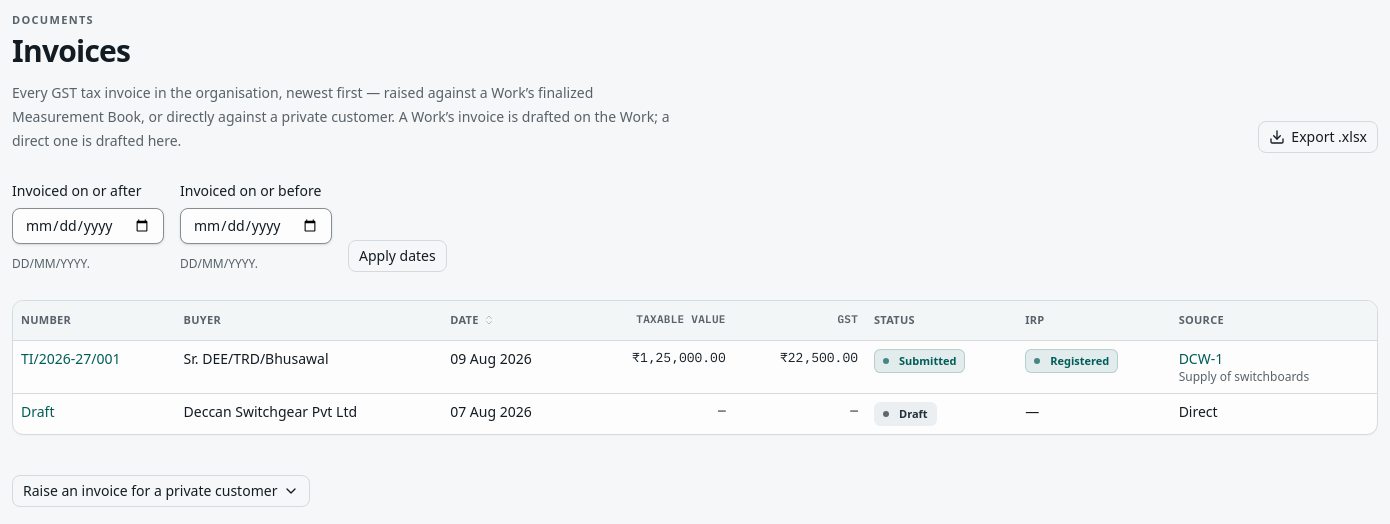
Test: the tax-invoice register › narrows to a date window, and says so when the window is empty
Expected: the link "TI/2026-27/001" is shown, x1=21 y1=349 x2=120 y2=368
Type "2026-08-01" into the date field labelled "Invoiced on or after" at (88, 226), box x1=12 y1=208 x2=164 y2=244
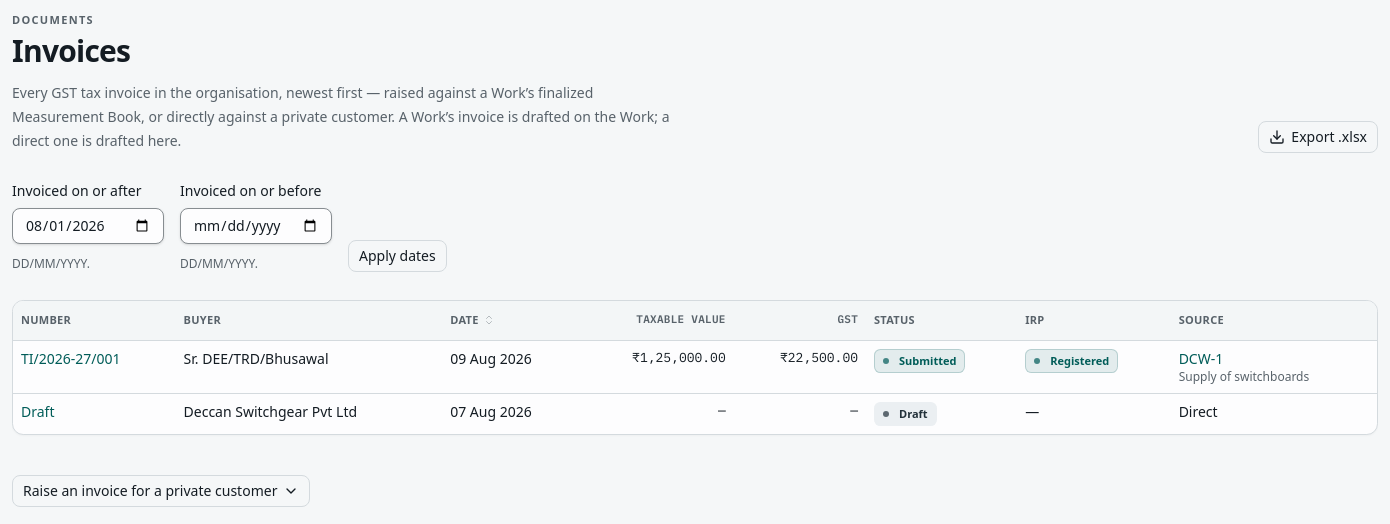
Type "2026-08-02" into the date field labelled "Invoiced on or before" at (256, 226), box x1=180 y1=208 x2=332 y2=244
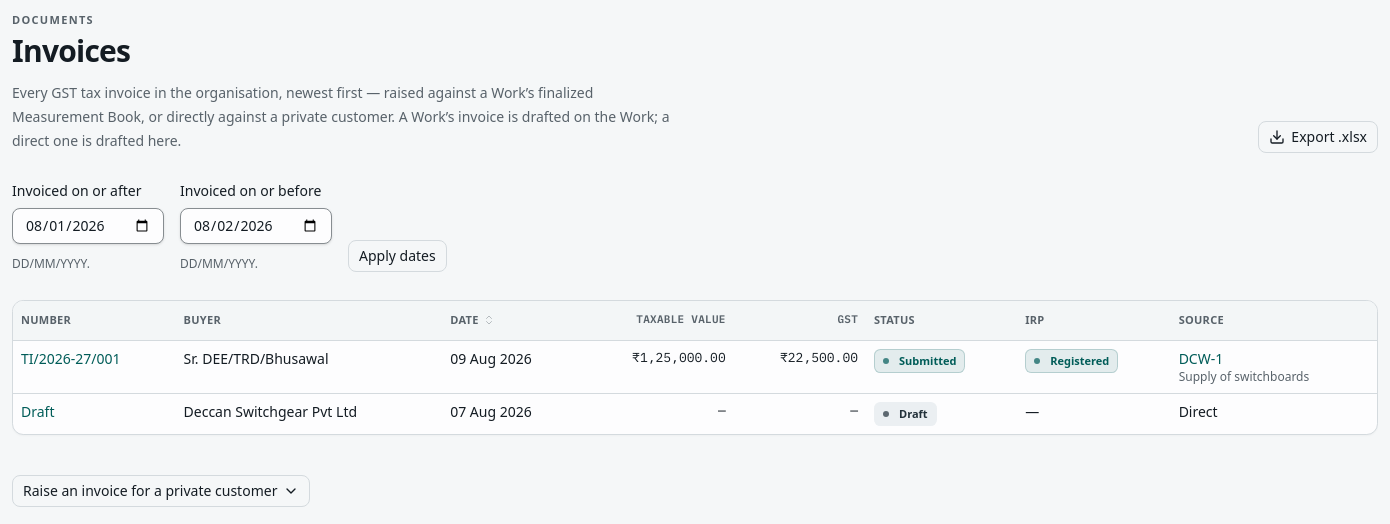
Click the button "Apply dates" at (397, 256), box x1=348 y1=240 x2=447 y2=272
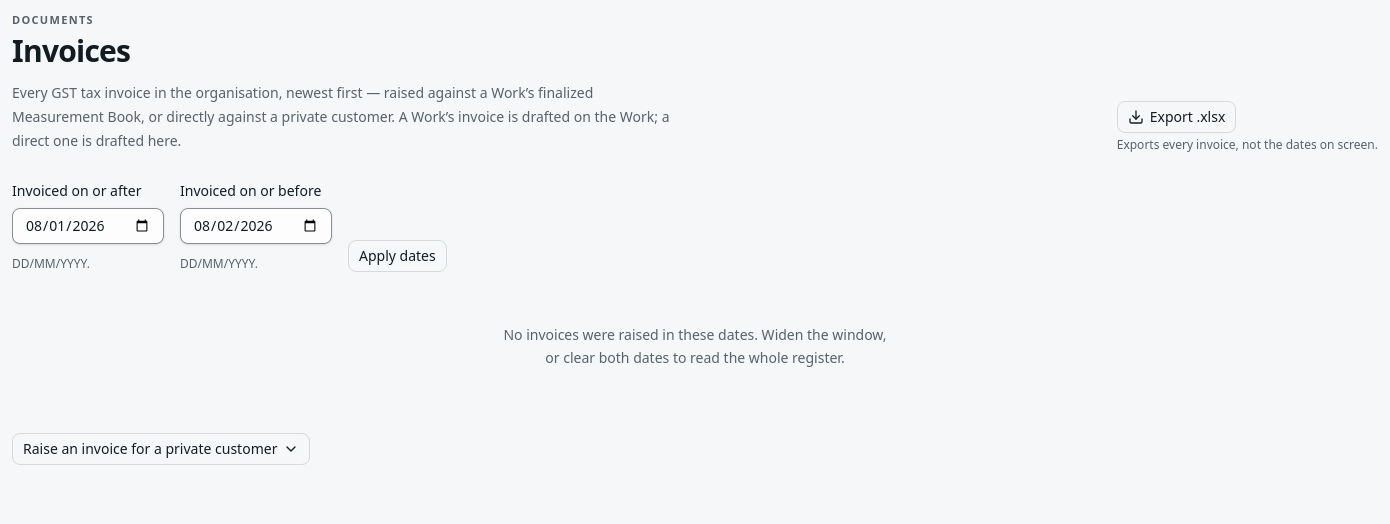
Now the text "No invoices were raised in these dates" is shown, box x1=503 y1=325 x2=886 y2=367
